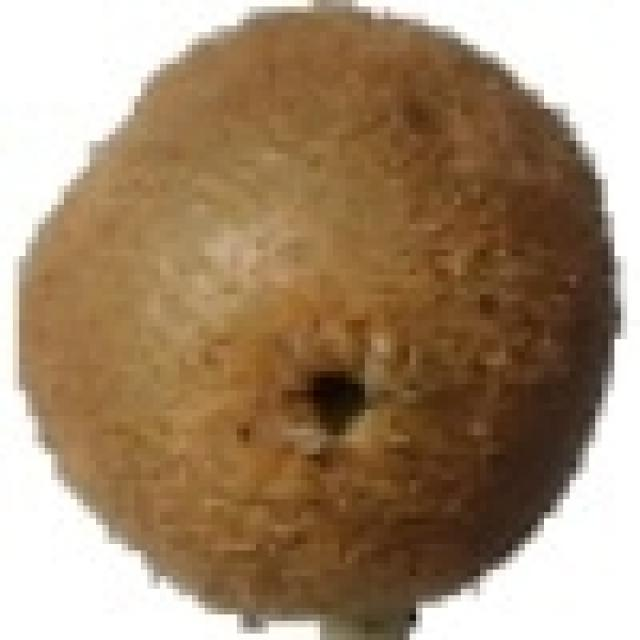kiwi: (18, 19, 607, 640)
